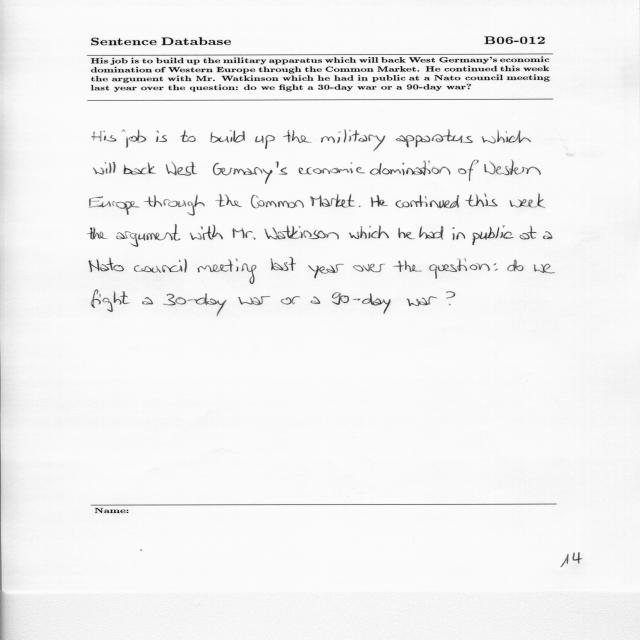word: (120, 291, 226, 316), (213, 161, 288, 184), (198, 259, 257, 284), (116, 225, 181, 247), (321, 130, 385, 152), (396, 130, 473, 148), (332, 293, 391, 315), (429, 258, 490, 279), (144, 195, 205, 215), (370, 161, 450, 176), (265, 225, 339, 240), (90, 196, 140, 215), (299, 162, 365, 175), (484, 161, 541, 176), (472, 226, 514, 246), (396, 195, 459, 208), (134, 259, 187, 273), (251, 195, 304, 208), (482, 130, 531, 143), (310, 194, 355, 208), (349, 226, 389, 239), (91, 289, 113, 312), (308, 264, 344, 278), (190, 225, 223, 240), (510, 194, 545, 208), (89, 258, 124, 272), (166, 161, 197, 176), (458, 160, 479, 182), (210, 130, 245, 143), (123, 162, 156, 175), (465, 194, 498, 207), (124, 130, 147, 148), (283, 130, 311, 143), (270, 257, 296, 271), (215, 194, 242, 207), (393, 260, 422, 272), (420, 226, 444, 239), (407, 296, 437, 306), (232, 228, 256, 240), (239, 296, 271, 305), (255, 135, 275, 149), (92, 131, 117, 142), (94, 162, 116, 174), (353, 264, 385, 272), (88, 227, 107, 240), (520, 226, 537, 240), (370, 195, 388, 207), (534, 264, 555, 274), (398, 228, 415, 239), (507, 260, 524, 271), (281, 296, 300, 305), (453, 227, 466, 240), (181, 131, 196, 142), (446, 292, 455, 306), (156, 131, 167, 142), (114, 291, 122, 305), (543, 231, 552, 239), (311, 296, 320, 304), (494, 263, 498, 271), (359, 206, 361, 207)
